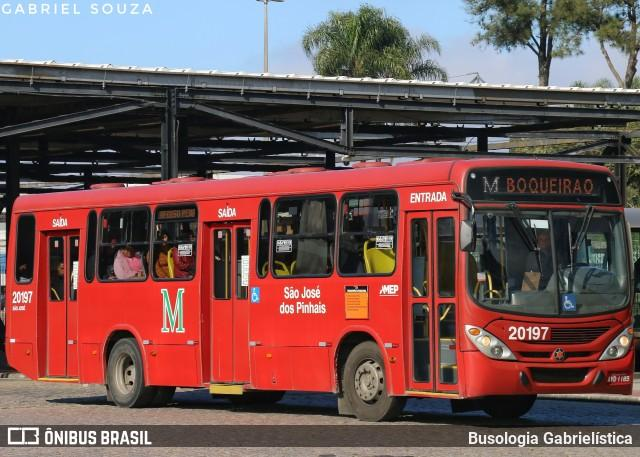BOQUEIRAO: (502, 173, 598, 199)
